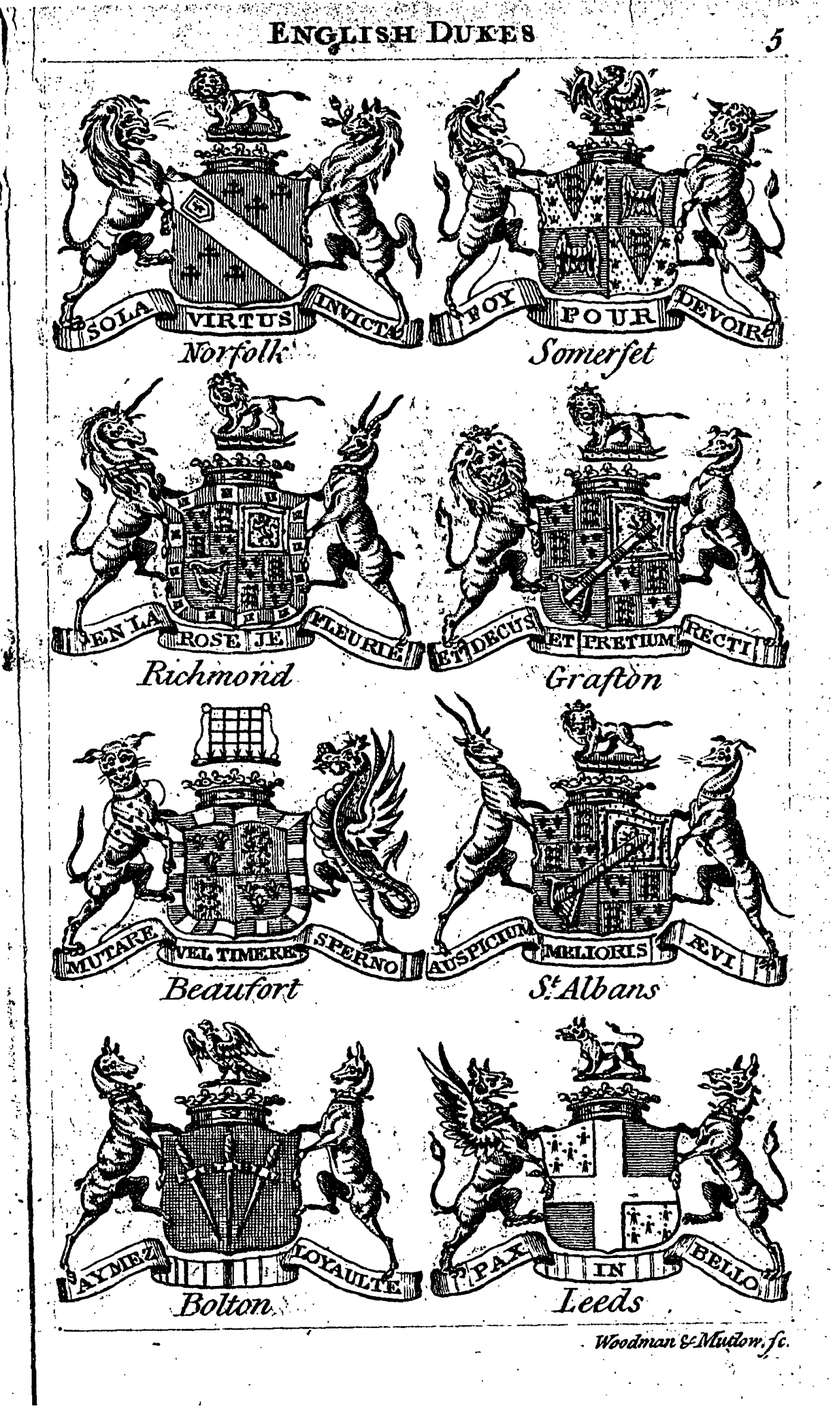coat_of_arms: (427, 374, 812, 700), (58, 998, 430, 1327), (424, 1004, 806, 1318), (59, 64, 428, 381), (430, 688, 788, 1008), (431, 55, 788, 374), (63, 377, 419, 691), (61, 702, 423, 1004)
